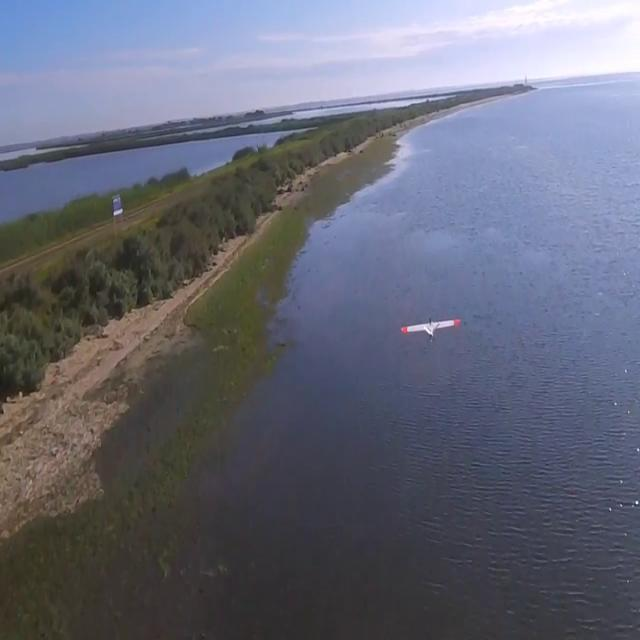iha: (401, 310, 462, 341)
